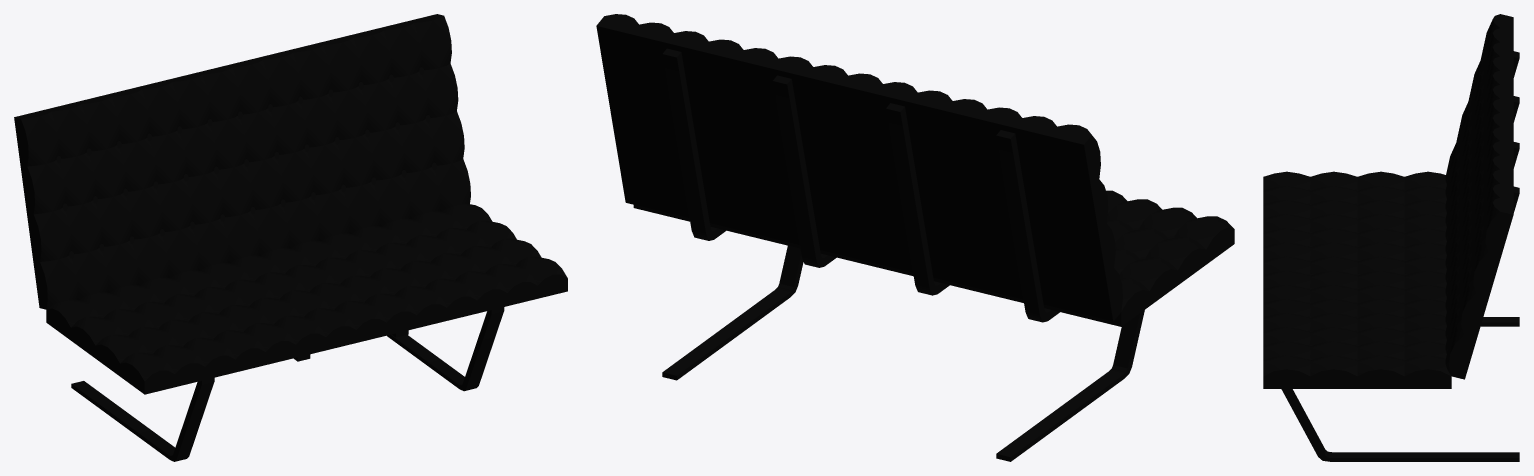
The model's file is sillon.obj.
3 views of the same model, side by side, from view 1: azimuth 30°, elevation 25°; view 2: azimuth 150°, elevation 25°; view 3: azimuth 270°, elevation 25° (orthographic). The views are drawn at different scales.
Parts seen in each view (by area): view 1: sillon:Mesh polySurface152, sillon:Mesh polySurface124, sillon:Mesh polySurface201 polySurface204, sillon:Mesh polySurface28, sillon:Mesh polySurface201 polySurface203, sillon:Mesh polySurface163, sillon:Mesh polySurface160, sillon:Mesh polySurface15, sillon:Mesh polySurface111, sillon:Mesh polySurface66, sillon:Mesh polySurface162, sillon:Mesh polySurface40 (+106 smaller); view 2: sillon:Mesh polySurface28, sillon:Mesh polySurface32, sillon:Mesh polySurface201 polySurface205, sillon:Mesh polySurface201 polySurface202, sillon:Mesh polySurface201 polySurface207, sillon:Mesh polySurface206 polySurface201, sillon:Mesh polySurface201 polySurface204, sillon:Mesh polySurface152, sillon:Mesh polySurface201 polySurface203, sillon:Mesh polySurface198, sillon:Mesh polySurface158, sillon:Mesh polySurface16 (+4 smaller); view 3: sillon:Mesh polySurface32, sillon:Mesh polySurface124, sillon:Mesh polySurface201 polySurface203, sillon:Mesh polySurface28, sillon:Mesh polySurface151, sillon:Mesh polySurface109, sillon:Mesh polySurface200, sillon:Mesh polySurface132, sillon:Mesh polySurface60, sillon:Mesh polySurface75, sillon:Mesh polySurface95, sillon:Mesh polySurface199 (+52 smaller).
Boxes of the visible parts, x1,y1,x2,y2 form: sillon:Mesh polySurface152: (46, 308, 356, 394); sillon:Mesh polySurface124: (356, 274, 567, 342); sillon:Mesh polySurface201 polySurface204: (71, 381, 214, 461); sillon:Mesh polySurface28: (14, 65, 231, 309); sillon:Mesh polySurface201 polySurface203: (387, 311, 503, 391); sillon:Mesh polySurface163: (21, 112, 58, 166); sillon:Mesh polySurface160: (34, 207, 71, 261); sillon:Mesh polySurface15: (414, 16, 451, 70); sillon:Mesh polySurface111: (293, 45, 330, 99); sillon:Mesh polySurface66: (27, 160, 65, 214); sillon:Mesh polySurface162: (263, 53, 300, 107); sillon:Mesh polySurface40: (353, 30, 391, 84); sillon:Mesh polySurface28: (840, 73, 1122, 321); sillon:Mesh polySurface32: (596, 14, 869, 261); sillon:Mesh polySurface201 polySurface205: (996, 130, 1059, 322); sillon:Mesh polySurface201 polySurface202: (886, 103, 949, 295); sillon:Mesh polySurface201 polySurface207: (662, 48, 725, 240); sillon:Mesh polySurface206 polySurface201: (772, 75, 836, 267); sillon:Mesh polySurface201 polySurface204: (996, 310, 1144, 461); sillon:Mesh polySurface152: (877, 227, 1234, 326); sillon:Mesh polySurface201 polySurface203: (662, 245, 803, 380); sillon:Mesh polySurface198: (1174, 216, 1233, 249); sillon:Mesh polySurface158: (1146, 237, 1205, 269); sillon:Mesh polySurface16: (1119, 257, 1177, 290); sillon:Mesh polySurface32: (1449, 113, 1513, 379); sillon:Mesh polySurface124: (1263, 369, 1451, 388); sillon:Mesh polySurface201 polySurface203: (1281, 389, 1519, 461); sillon:Mesh polySurface28: (1493, 14, 1513, 115); sillon:Mesh polySurface151: (1310, 355, 1357, 376); sillon:Mesh polySurface109: (1357, 355, 1404, 376); sillon:Mesh polySurface200: (1263, 355, 1310, 376); sillon:Mesh polySurface132: (1263, 242, 1310, 261); sillon:Mesh polySurface60: (1263, 228, 1310, 247); sillon:Mesh polySurface75: (1263, 341, 1310, 360); sillon:Mesh polySurface95: (1263, 256, 1310, 275); sillon:Mesh polySurface199: (1263, 214, 1310, 233).
Size of the model in its own units: 1.26 by 0.8317 by 0.6887.
2 materials, 2 textured.
